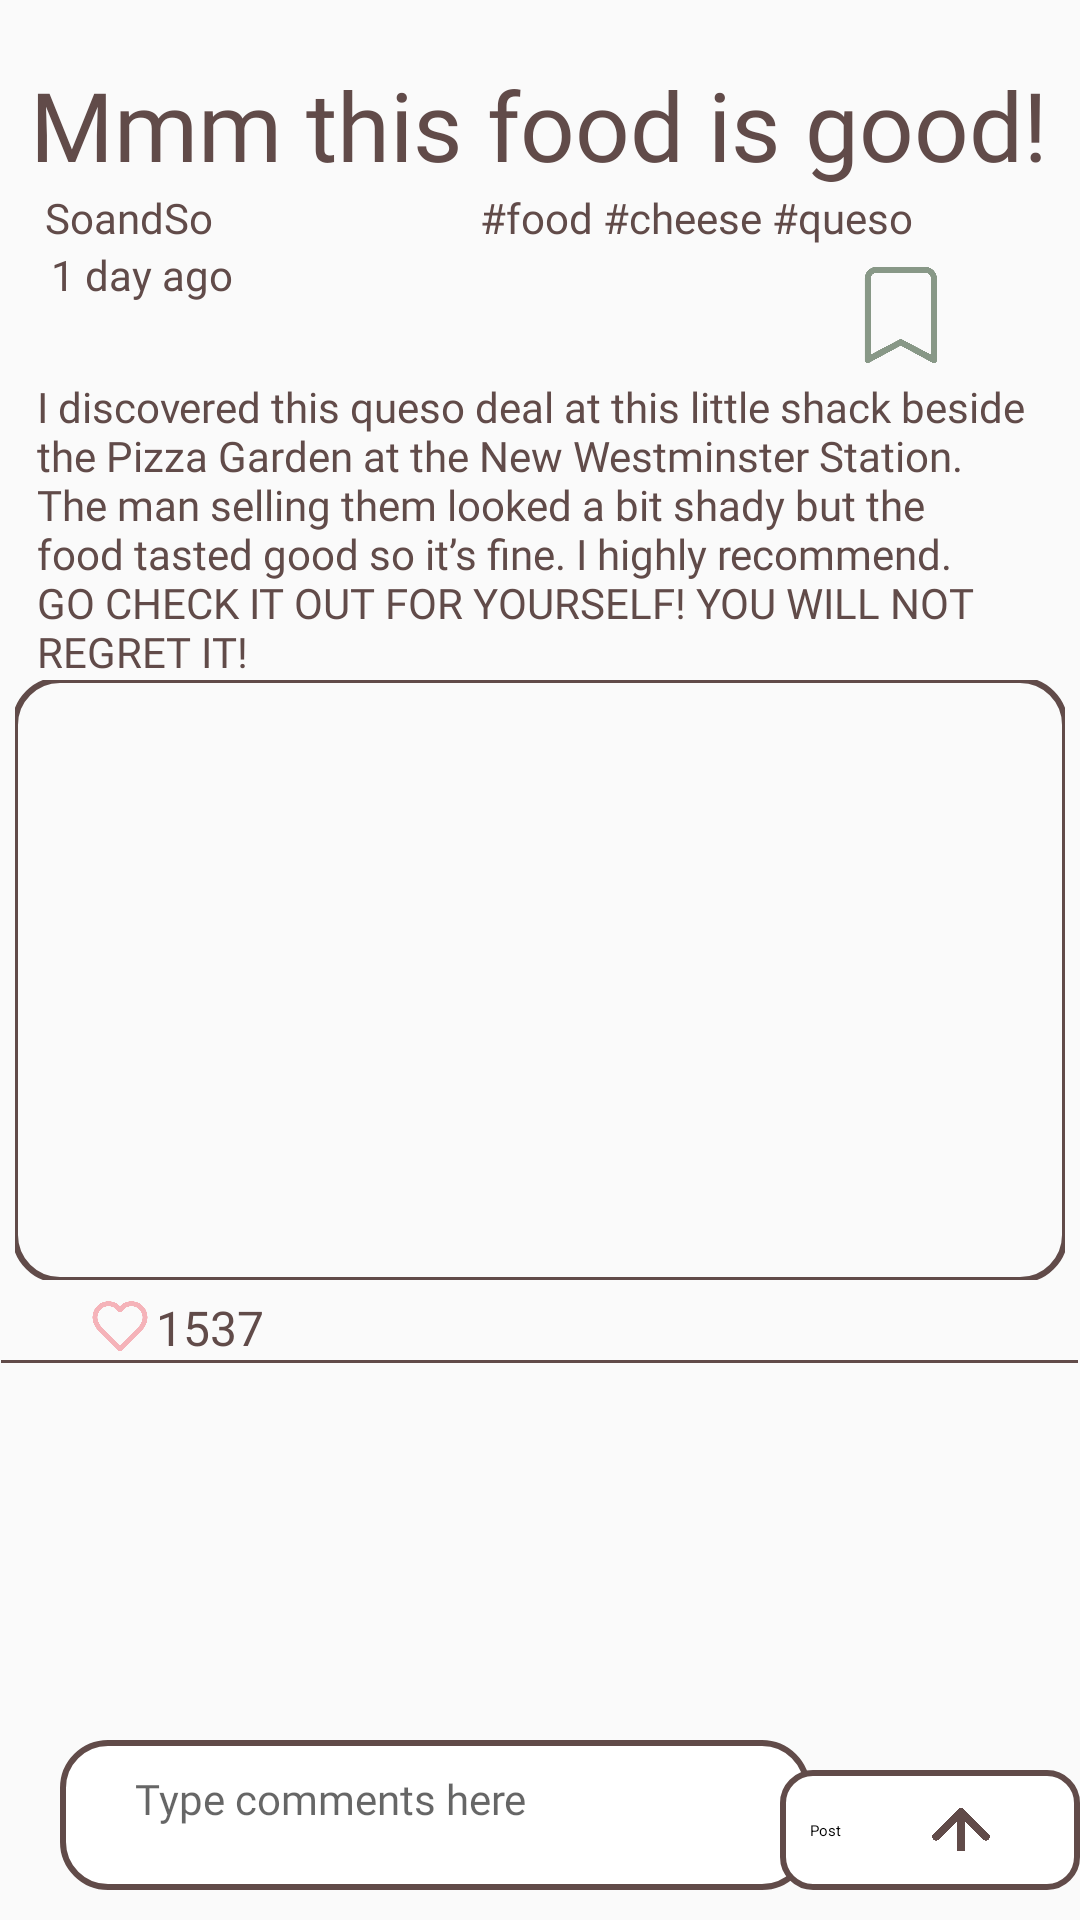

Icon bounding boxes for this 1080*1920 phone screenshot, format (x1, y1, x2, y2):
bookmark no: (865, 267, 937, 363)
heart: (92, 1301, 148, 1351)
